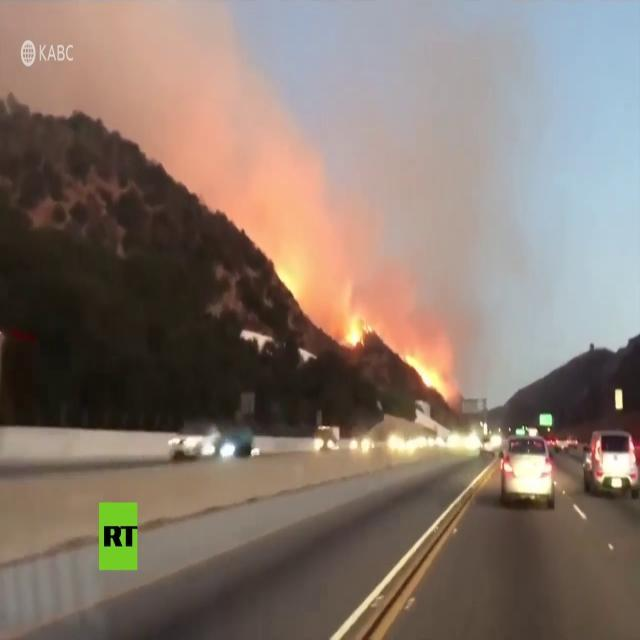Fire: (402, 352, 444, 391), (346, 316, 374, 352)
